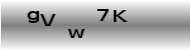7: (95, 7, 109, 22)
K: (112, 8, 128, 23)
V: (39, 12, 56, 26)
g: (26, 9, 40, 23)
w: (67, 27, 86, 39)
